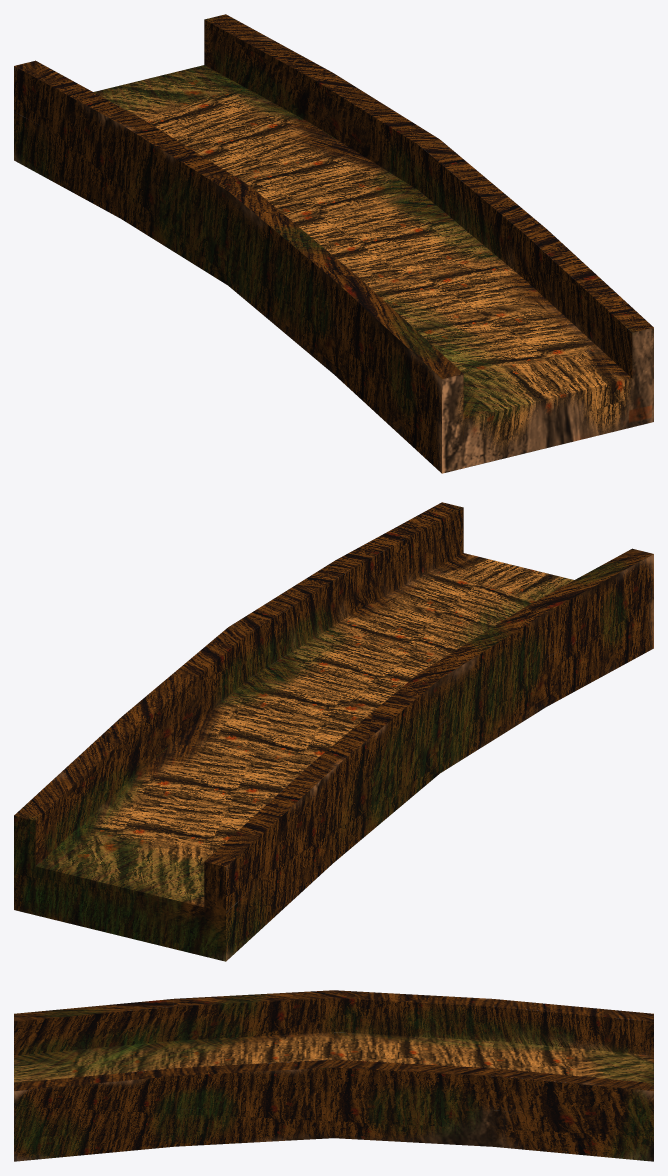
Rendered from bridge_2.fbx.
3 views of the same model, one above another, from view 1: azimuth 30°, elevation 25°; view 2: azimuth 150°, elevation 25°; view 3: azimuth 270°, elevation 25° (orthographic). The views are drawn at different scales.
Parts seen in each view (by area): view 1: Cube; view 2: Cube; view 3: Cube.
Boxes of the visible parts, bbox=[...] form: Cube: bbox=[14, 14, 653, 473]; Cube: bbox=[14, 502, 653, 961]; Cube: bbox=[14, 990, 653, 1161].
Bounding box in the file's own units: 488 × 277 × 1705.
